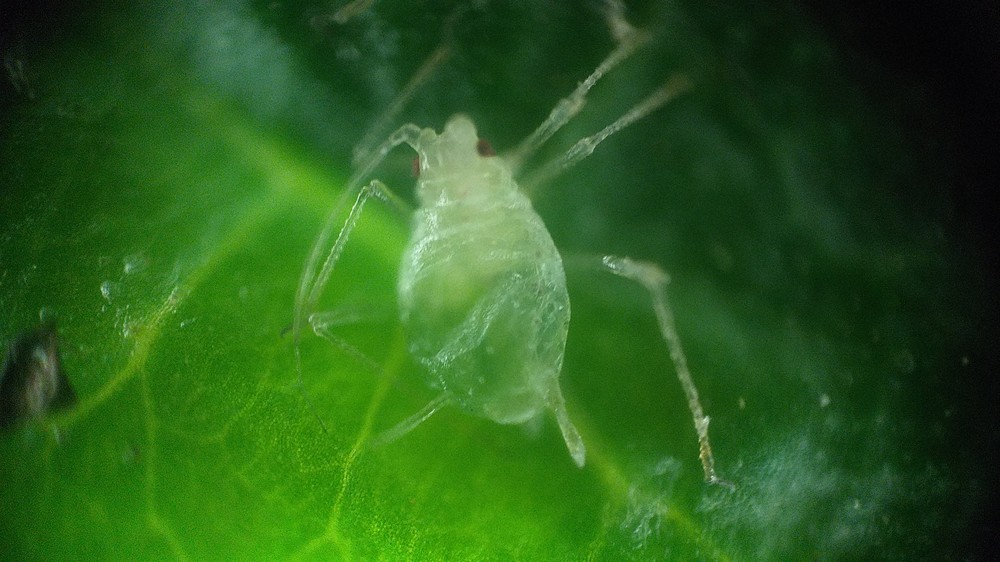Pulgon: (292, 31, 756, 497)
